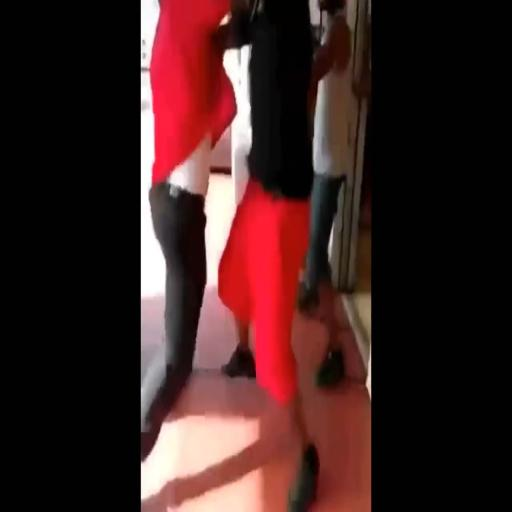violencia: (142, 0, 328, 512)
